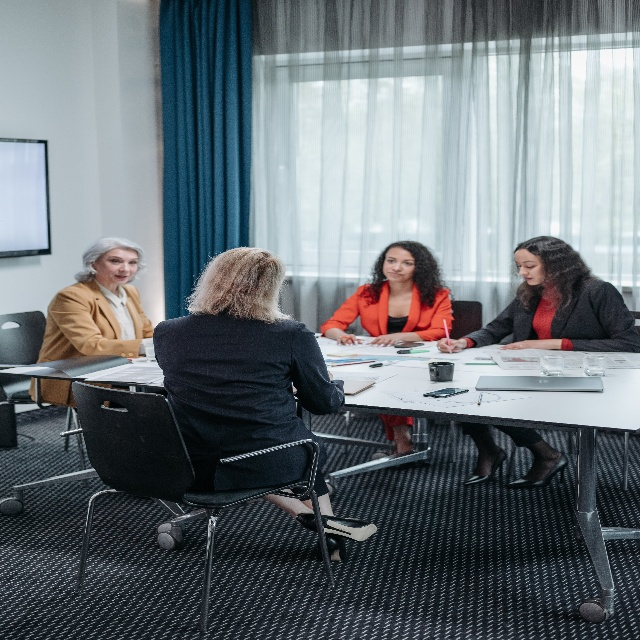Sin_guantes: (436, 334, 463, 354), (497, 338, 532, 350), (367, 333, 399, 345), (337, 331, 362, 346)
